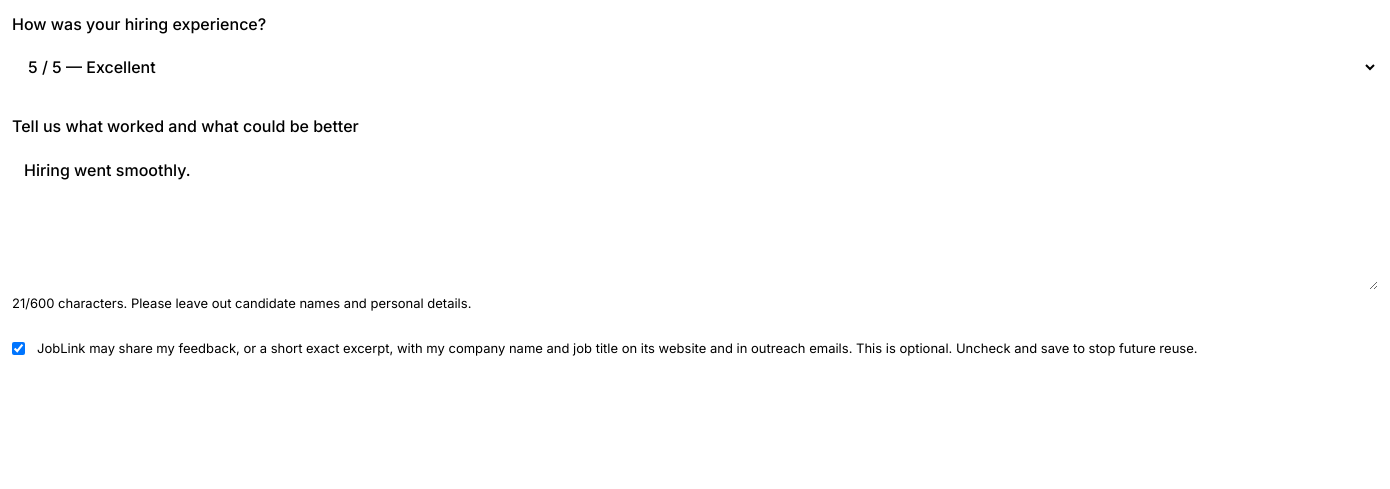
sends withdrawal and keeps feedback available when saving fails
The image size is (1390, 489).
Click the checkbox at (18, 348), box top-left (12, 342), bottom-right (25, 355)
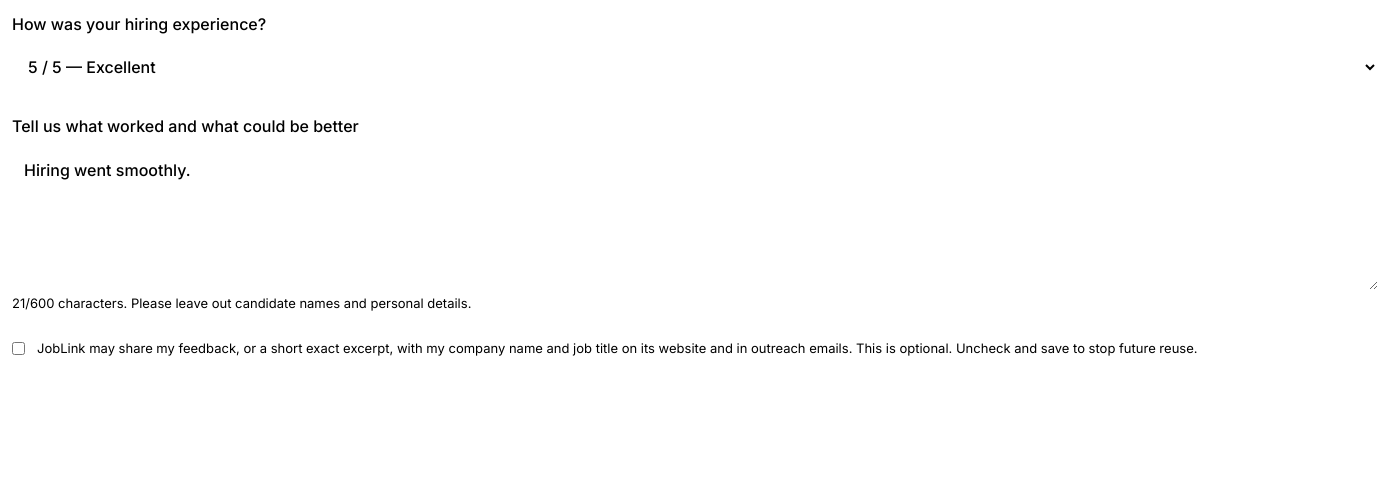
Submit the form named "Save feedback"
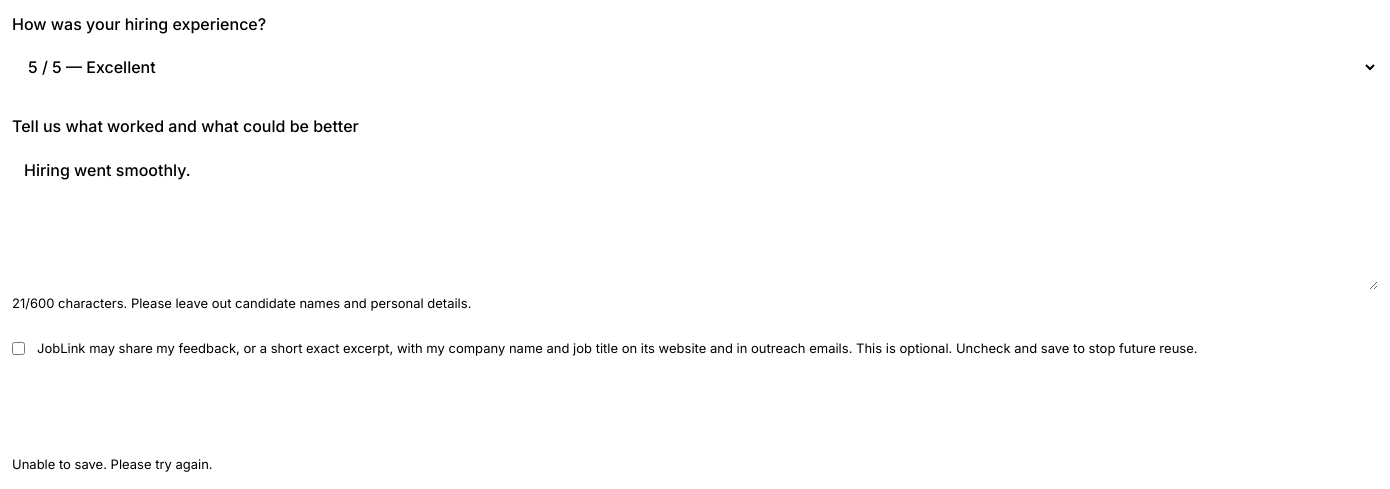
Expected: the text box holds "Hiring went smoothly.", top-left (12, 146), bottom-right (1378, 290)
Expected: the message shows "Unable to save", top-left (12, 456), bottom-right (213, 472)
